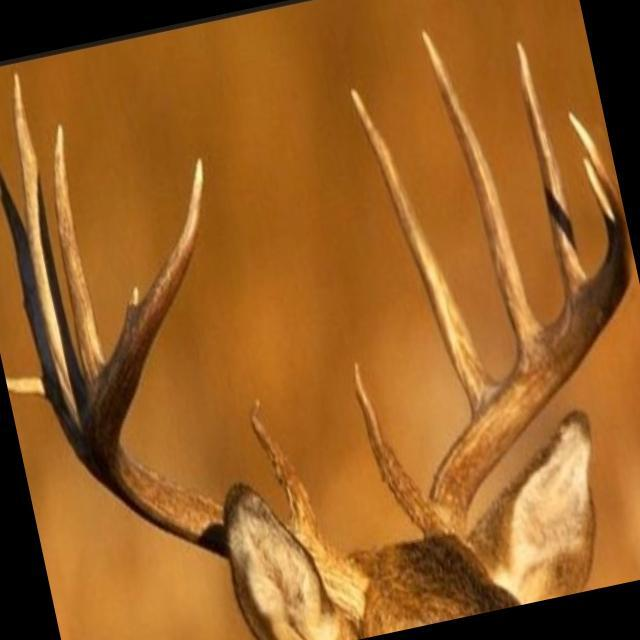E1: (5, 375, 45, 396)
E3: (582, 156, 615, 243), (124, 285, 138, 325)
L-F: (423, 107, 633, 542)
L-G1: (353, 361, 439, 535)
L-G2: (349, 85, 495, 410)
L-G3: (420, 27, 543, 350)
L-G4: (515, 39, 588, 294)
R-G1: (248, 399, 318, 534)
R-G3: (52, 121, 105, 402)
